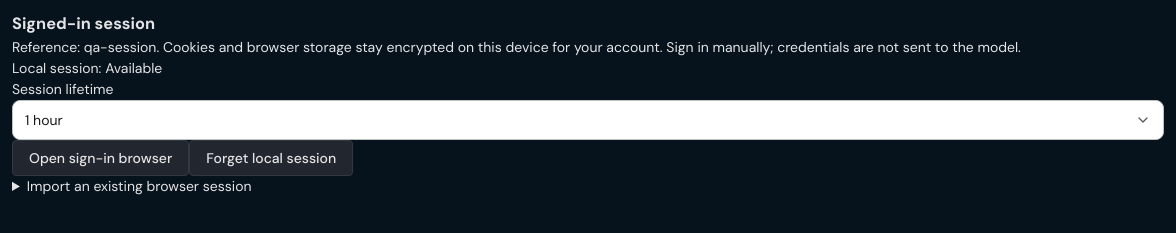
it: Signed-in session controls › forgets a saved local session through an explicit action
Click the button "Forget local session".
click(271, 158)  # box [189, 140, 353, 176]
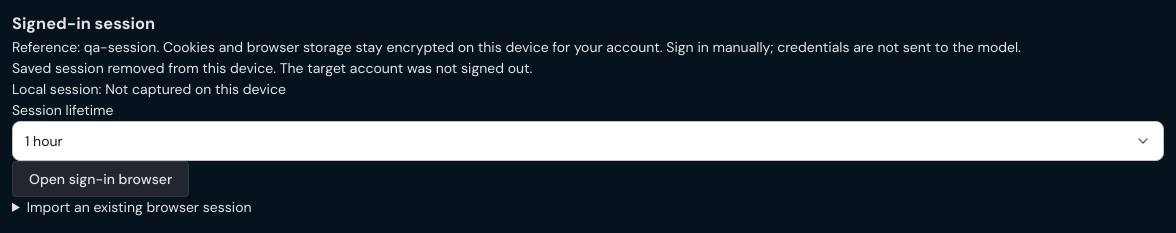
Expected: the text "Saved session removed from this device. The target account was not signed out." is shown, [12, 59, 532, 77]
